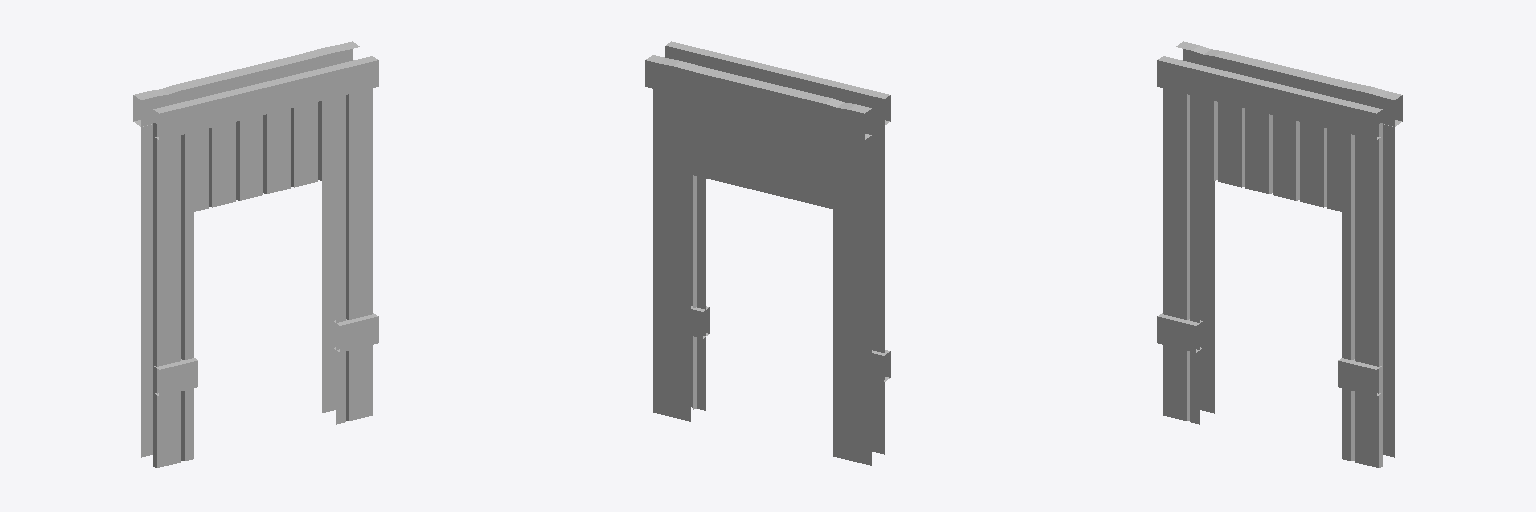
Rendered from Wall_WoodWear_Door_Flat.obj.
3 renders of one model, left to right at view 1: azimuth 30°, elevation 25°; view 2: azimuth 150°, elevation 25°; view 3: azimuth 330°, elevation 25°, orthographic.
Visible parts, largest first — view 1: Wall_WoodWear_Door_Flat; view 2: Wall_WoodWear_Door_Flat; view 3: Wall_WoodWear_Door_Flat.
Boxes of the visible parts, x1=… form: Wall_WoodWear_Door_Flat: x1=133, y1=41, x2=378, y2=467; Wall_WoodWear_Door_Flat: x1=645, y1=41, x2=890, y2=465; Wall_WoodWear_Door_Flat: x1=1157, y1=41, x2=1402, y2=467.
Size of the model in its own units: 2 by 3.12 by 0.4065.